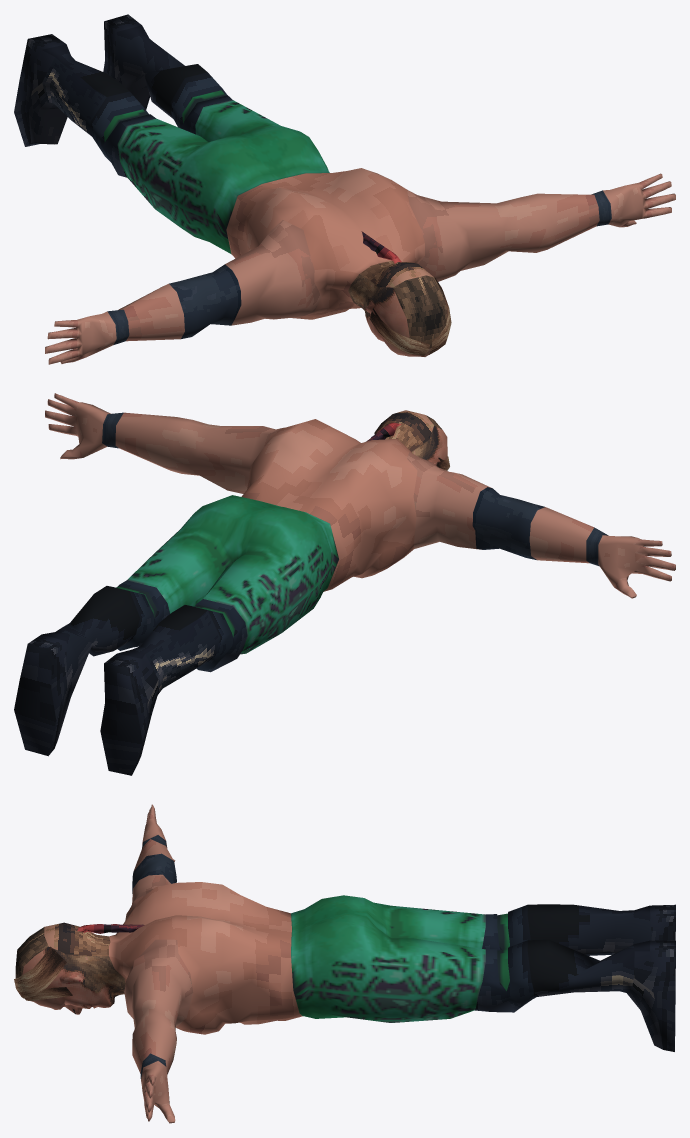
3 views of the same model, one above another, from view 1: azimuth 30°, elevation 25°; view 2: azimuth 150°, elevation 25°; view 3: azimuth 270°, elevation 25° (orthographic). The views are drawn at different scales.
Visible parts, largest first — view 1: native_mesh_46, native_mesh_16, native_mesh_45, native_mesh_13, native_mesh_20, native_mesh_40, native_mesh_25, native_mesh_15, native_mesh_42, native_mesh_01, native_mesh_14, native_mesh_19 (+9 smaller); view 2: native_mesh_46, native_mesh_40, native_mesh_45, native_mesh_25, native_mesh_16, native_mesh_42, native_mesh_41, native_mesh_20, native_mesh_19, native_mesh_44, native_mesh_24, native_mesh_35 (+6 smaller); view 3: native_mesh_42, native_mesh_40, native_mesh_25, native_mesh_45, native_mesh_46, native_mesh_16, native_mesh_13, native_mesh_24, native_mesh_12, native_mesh_01, native_mesh_03, native_mesh_44 (+5 smaller).
Boxes of the visible parts, box(x1,y1,x2,y2) form: native_mesh_46: box(117, 118, 282, 254); native_mesh_16: box(442, 193, 599, 274); native_mesh_45: box(14, 34, 129, 146); native_mesh_13: box(353, 185, 462, 307); native_mesh_20: box(118, 264, 241, 341); native_mesh_40: box(238, 168, 405, 308); native_mesh_25: box(103, 14, 207, 118); native_mesh_15: box(283, 205, 369, 319); native_mesh_42: box(195, 100, 329, 183); native_mesh_01: box(372, 262, 447, 348); native_mesh_14: box(258, 220, 321, 319); native_mesh_19: box(82, 246, 286, 343); native_mesh_46: box(203, 498, 347, 654); native_mesh_40: box(241, 422, 401, 577); native_mesh_45: box(100, 605, 220, 775); native_mesh_25: box(14, 586, 140, 756); native_mesh_16: box(115, 412, 262, 493); native_mesh_42: box(127, 495, 281, 613); native_mesh_41: box(328, 444, 441, 589); native_mesh_20: box(472, 487, 593, 563); native_mesh_19: box(414, 472, 491, 549); native_mesh_44: box(188, 599, 247, 672); native_mesh_24: box(60, 449, 169, 650); native_mesh_35: box(587, 528, 643, 577); native_mesh_42: box(291, 912, 485, 1022); native_mesh_40: box(138, 882, 293, 1034); native_mesh_25: box(527, 939, 675, 1051); native_mesh_45: box(527, 904, 675, 955); native_mesh_46: box(291, 895, 485, 948); native_mesh_16: box(126, 968, 182, 1074); native_mesh_13: box(109, 915, 201, 1032); native_mesh_24: box(164, 940, 536, 1123); native_mesh_12: box(84, 924, 141, 1007); native_mesh_01: box(15, 922, 96, 978); native_mesh_03: box(14, 925, 86, 1000); native_mesh_44: box(482, 905, 530, 950).
Bounding box in the file's own units: 19.91 × 4.14 × 19.36.
Materials: 19 (19 with a texture image).
